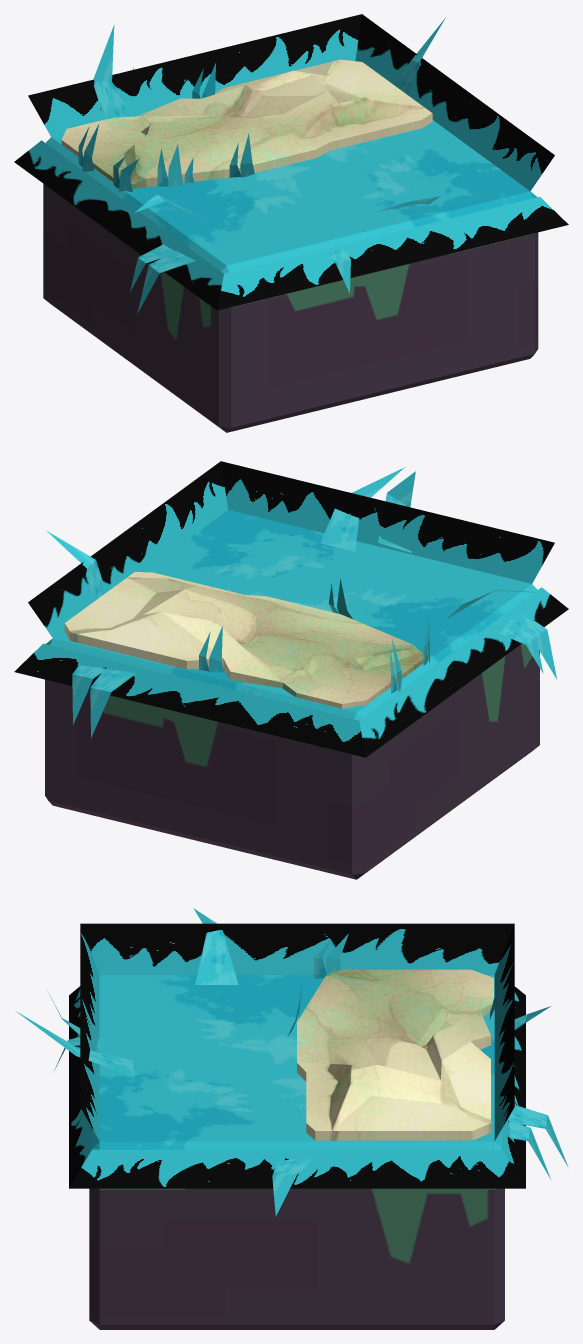
File: tilegrasscyan002.glb
The picture shows the model from 3 angles, top to bottom: view 1: azimuth 30°, elevation 25°; view 2: azimuth 150°, elevation 25°; view 3: azimuth 270°, elevation 25°; orthographic projection. The views are drawn at different scales.
Visible parts, largest first — view 1: tilegrasscyan002; view 2: tilegrasscyan002; view 3: tilegrasscyan002.
Boxes of the visible parts, <box> form: tilegrasscyan002: <box>14,14,568,432</box>; tilegrasscyan002: <box>14,461,568,879</box>; tilegrasscyan002: <box>16,908,568,1329</box>.
Size of the model in its own units: 1.29 by 0.7481 by 1.34.
Materials: 2 (2 with a texture image).
